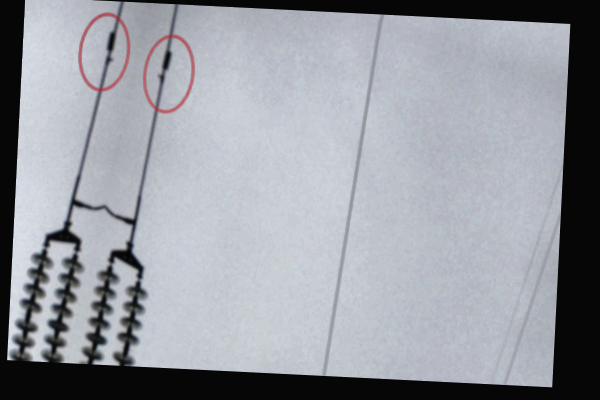damper_defect: (156, 47, 174, 89), (103, 28, 117, 70)
